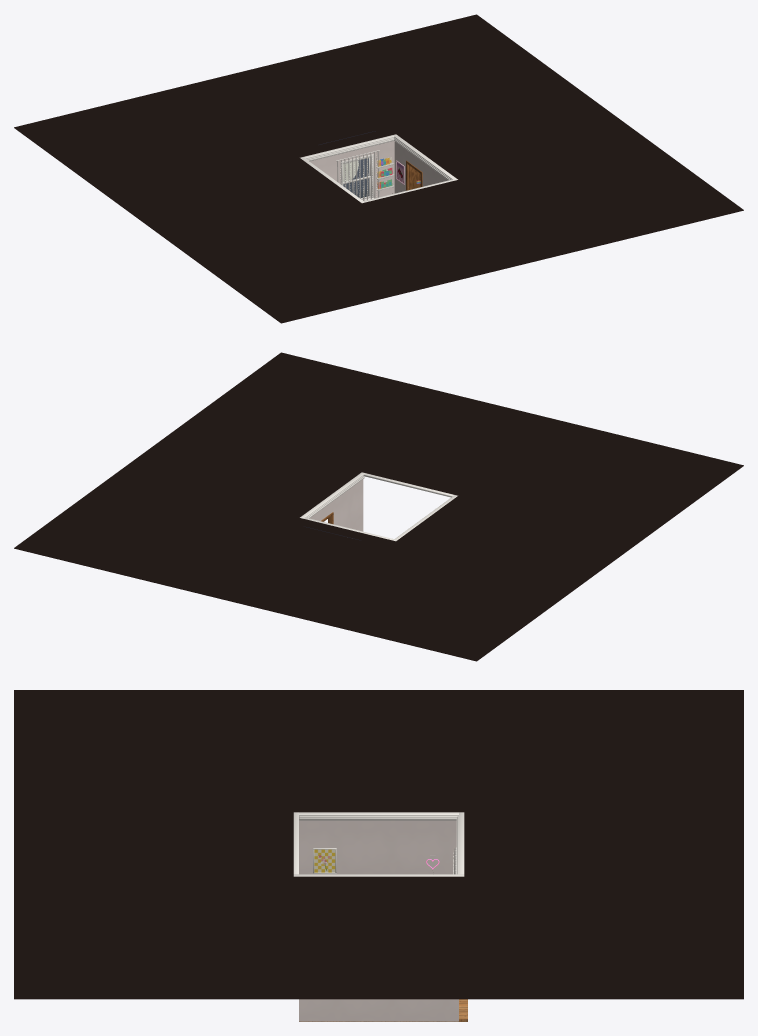
Rendered from chambre.glb.
3 renders of one model, top to bottom at view 1: azimuth 30°, elevation 25°; view 2: azimuth 150°, elevation 25°; view 3: azimuth 270°, elevation 25°, orthographic. The views are drawn at different scales.
Parts seen in each view (by area): view 1: CoupeOuest, CoupeEst, CoupeNord, CoupeSud, MurNord, MurEst, VueChambre; view 2: CoupeOuest, CoupeEst, CoupeSud, CoupeNord, MurEst; view 3: CoupeEst, CoupeOuest, CoupeNord, CoupeSud, MurOuest, Corridor.
Part boxes in pixels (x1,y1,x2,y2): CoupeOuest: [14, 83, 464, 323]; CoupeEst: [294, 14, 743, 254]; CoupeNord: [197, 59, 397, 158]; CoupeSud: [361, 179, 560, 278]; MurNord: [306, 137, 394, 200]; MurEst: [394, 138, 451, 193]; VueChambre: [319, 131, 375, 197]; CoupeOuest: [293, 421, 743, 661]; CoupeEst: [14, 352, 463, 592]; CoupeSud: [360, 397, 560, 497]; CoupeNord: [197, 517, 396, 616]; MurEst: [306, 475, 364, 531]; CoupeEst: [14, 874, 743, 999]; CoupeOuest: [14, 690, 743, 815]; CoupeNord: [459, 812, 743, 876]; CoupeSud: [14, 812, 298, 876]; MurOuest: [299, 816, 457, 874]; Corridor: [299, 999, 467, 1021].
Size of the model in its own units: 16 by 2.74 by 16.
83 materials, 18 textured.
